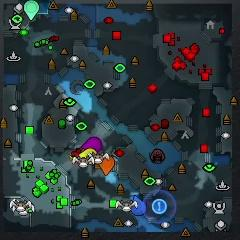Other: (152, 199, 168, 215)
p1: (132, 196, 147, 215)
p2: (25, 0, 39, 20)
p3: (84, 136, 102, 153)
p4: (79, 149, 96, 159)
p5: (100, 155, 114, 175)
